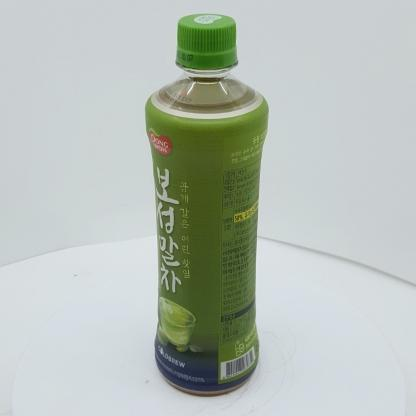------500ML: (145, 14, 269, 396)
